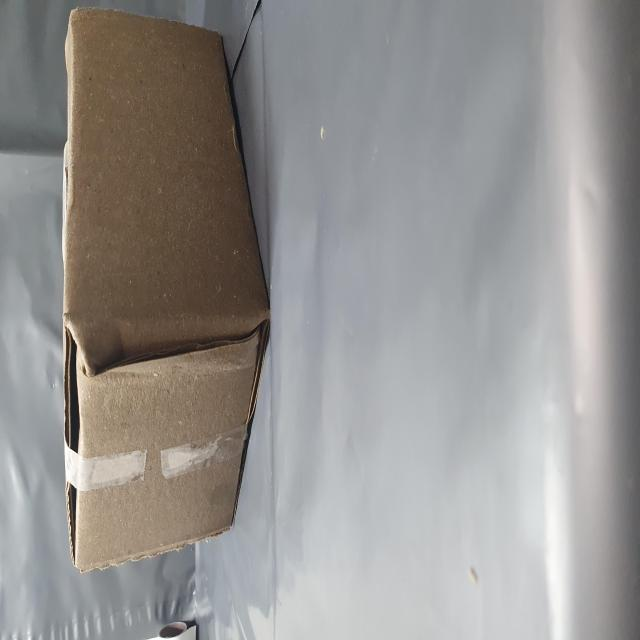wet: (40, 113, 346, 477)
